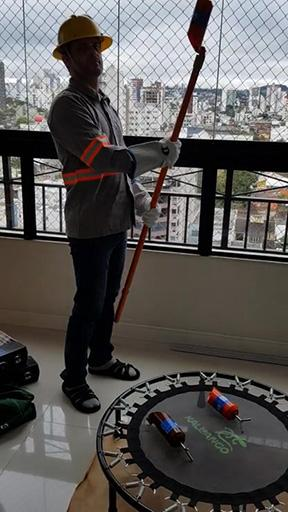Detector_Tensao_Contato: (147, 410, 193, 459), (206, 388, 251, 431), (186, 1, 213, 51)
Vara_Manobra: (114, 54, 207, 324)
